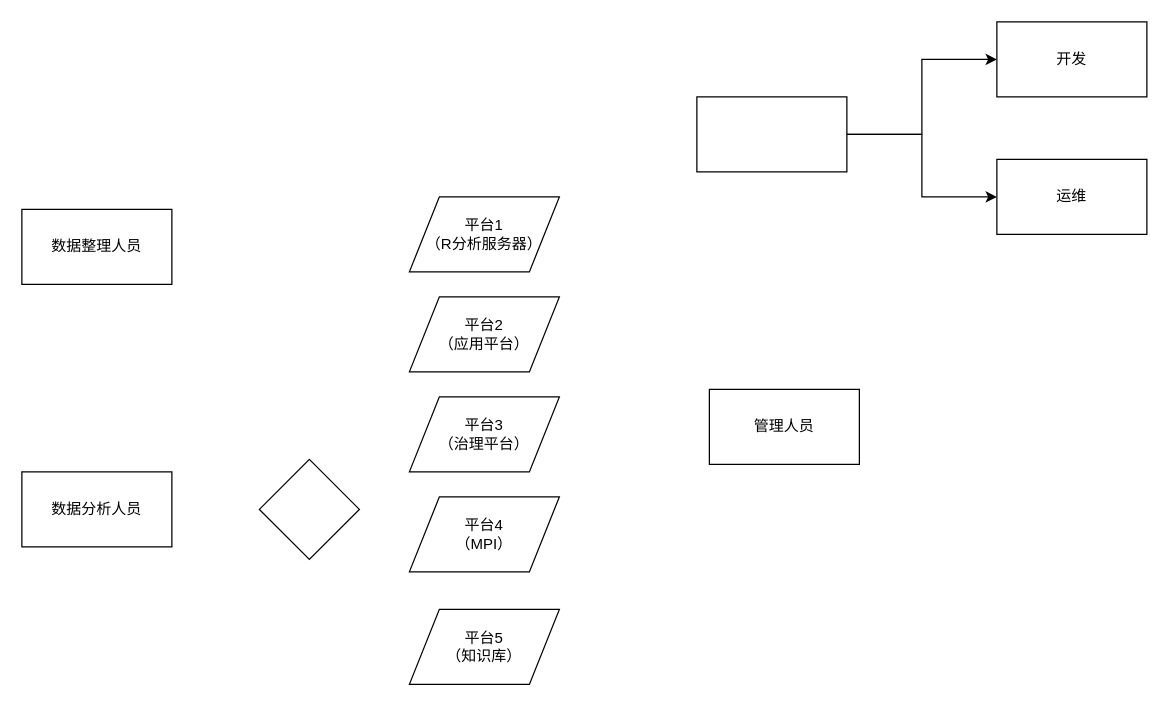
The diagram is 1169 pixels wide and 706 high, and some of its shapes have lost their labels. The shapes that lost their labels are listed below. From the top down, each one's centre as x and y in pixels, then its label:
the point at 771,134: 技术人员
the point at 308,508: 防泄密
